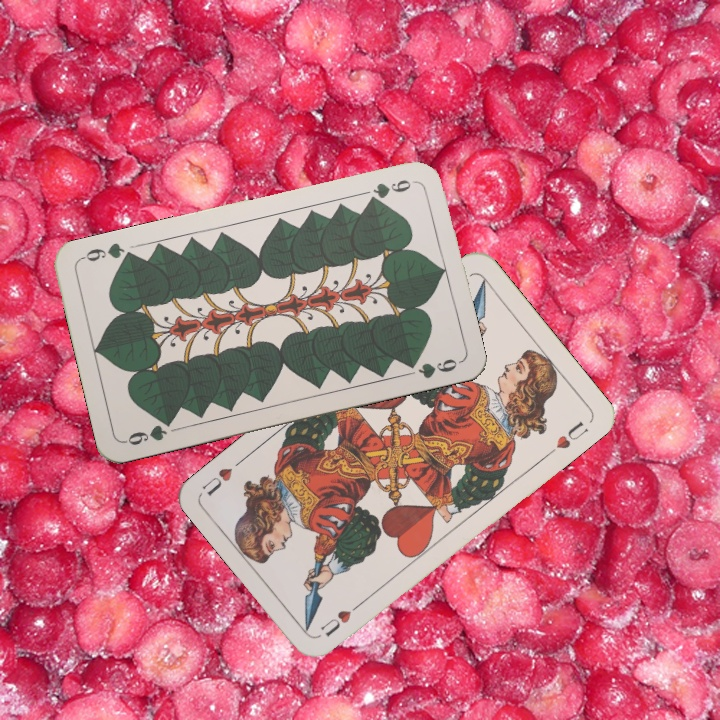G9: (120, 415, 176, 448), (364, 175, 418, 205)
HU: (316, 597, 366, 639)
